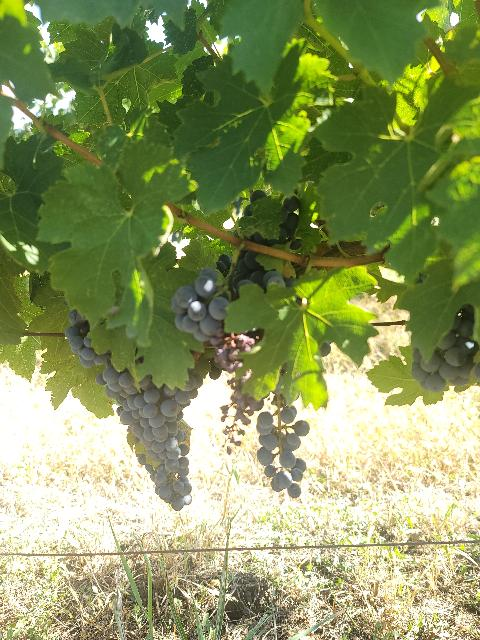grapes: (64, 310, 202, 511), (410, 305, 479, 392), (258, 392, 310, 500), (171, 254, 232, 342), (229, 251, 295, 298)
